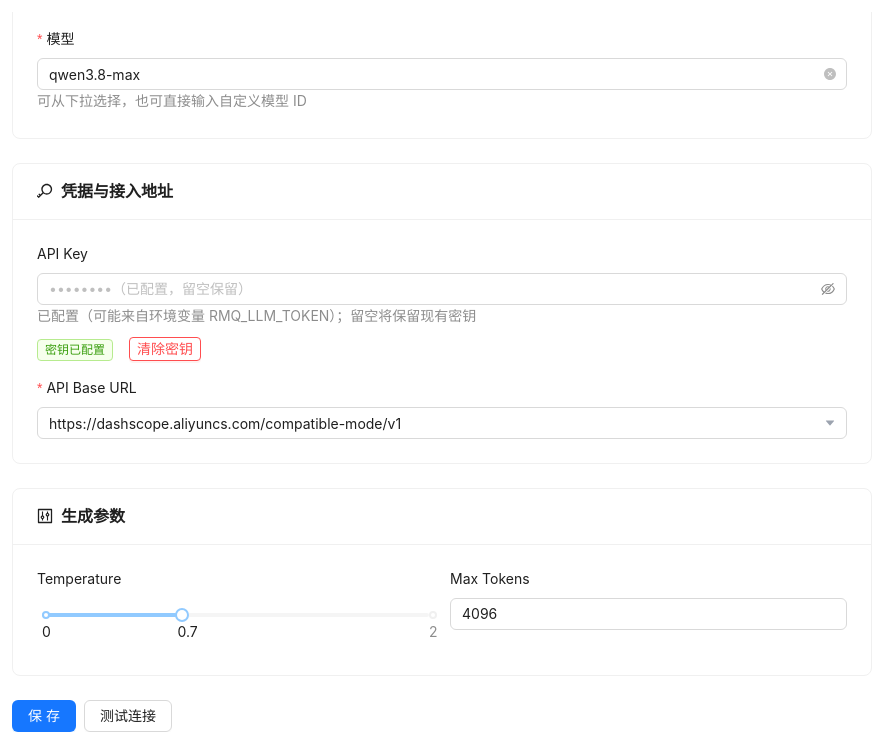
Test: AiAssistantTab › clears the stored API key after confirmation
(page scrolled)
expect the text "密钥已配置" is shown: met, box [37,339,113,361]
Click the button "清除密钥". click: x=165, y=349
box: [129,337,201,361]
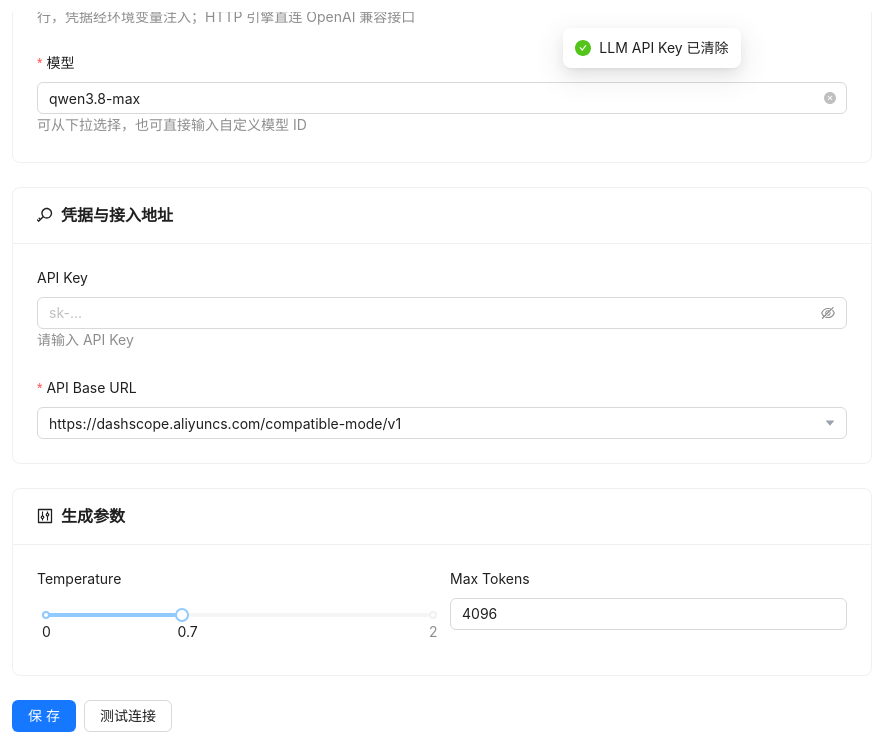
expect the text "LLM API Key 已清除" is shown: met, box [599,37,729,59]
expect the text "密钥已配置" is gone: met
